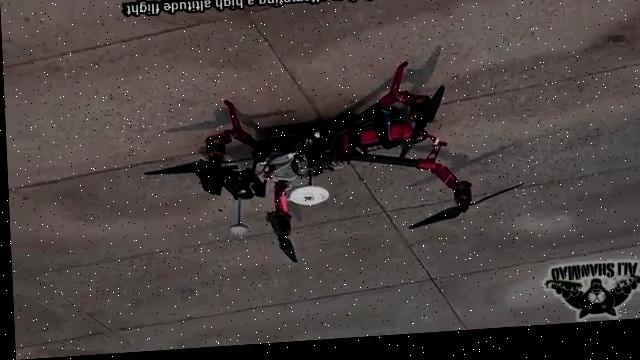drone: (135, 56, 529, 278)
